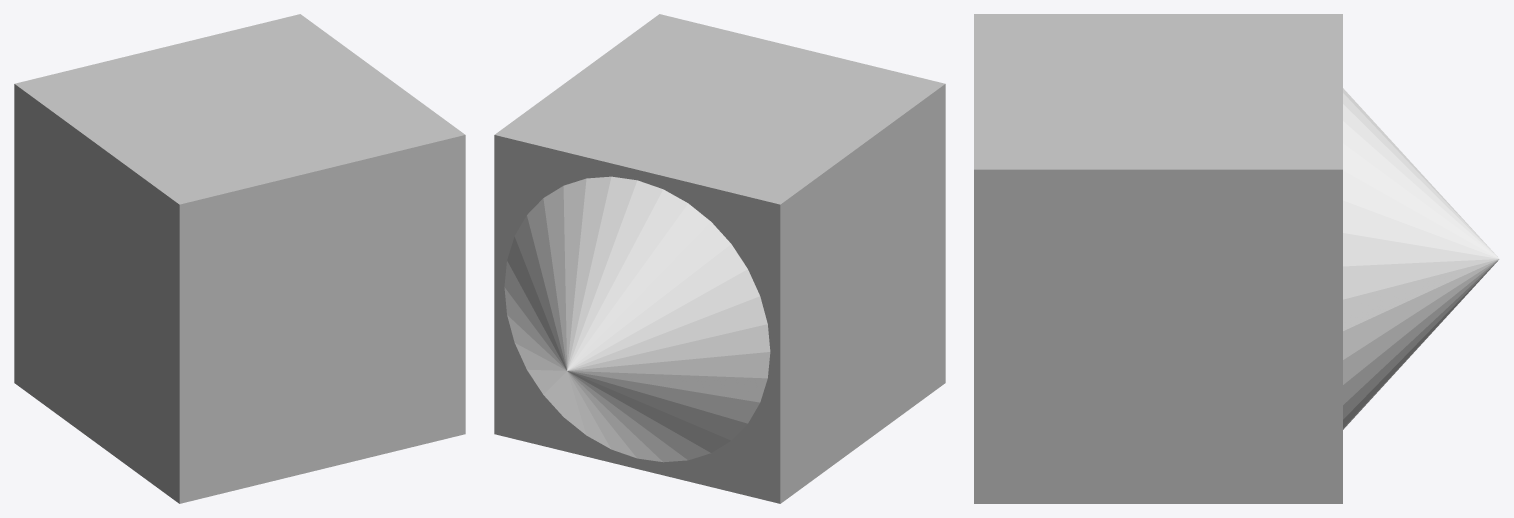
File: enemy.obj
3 renders of one model, left to right at view 1: azimuth 30°, elevation 25°; view 2: azimuth 150°, elevation 25°; view 3: azimuth 270°, elevation 25°, orthographic. The views are drawn at different scales.
Visible parts, largest first — view 1: Cube; view 2: Cube, 円錐; view 3: Cube, 円錐.
Part boxes in pixels (x1,y1,x2,y2): Cube: (14, 14, 465, 503); Cube: (494, 14, 945, 503); 円錐: (504, 176, 770, 462); Cube: (974, 14, 1342, 503); 円錐: (1343, 88, 1499, 429).
Bounding box in the file's own units: 2 × 2 × 2.85.
